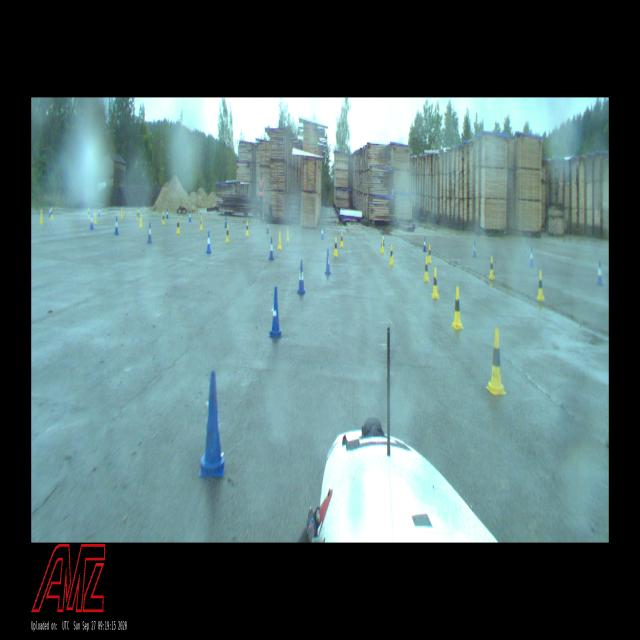blue_cone: (201, 374, 225, 470), (269, 290, 282, 338), (298, 262, 304, 292), (597, 261, 603, 286), (325, 250, 331, 275), (206, 230, 211, 253), (529, 248, 534, 267), (269, 237, 273, 260), (148, 222, 152, 242), (422, 237, 427, 251), (90, 214, 94, 230), (381, 231, 385, 246), (320, 226, 324, 240), (115, 217, 118, 234), (473, 241, 476, 257), (266, 220, 269, 234), (166, 209, 169, 218), (225, 216, 227, 228), (189, 211, 191, 222), (98, 206, 100, 216), (49, 206, 51, 215)
yellow_cone: (486, 328, 506, 394), (451, 287, 462, 328), (536, 270, 544, 300), (432, 267, 439, 299), (423, 256, 429, 281), (488, 256, 494, 280), (389, 246, 394, 265), (428, 243, 432, 263), (226, 224, 230, 243), (176, 218, 180, 234), (245, 222, 249, 236), (334, 238, 337, 256), (278, 231, 281, 249), (381, 238, 384, 254), (340, 232, 343, 248), (162, 210, 165, 225), (140, 213, 143, 227), (120, 208, 124, 218), (200, 217, 203, 230), (286, 227, 289, 240), (94, 210, 97, 223), (40, 210, 43, 223), (136, 210, 139, 220), (51, 207, 53, 220), (88, 208, 90, 219)
